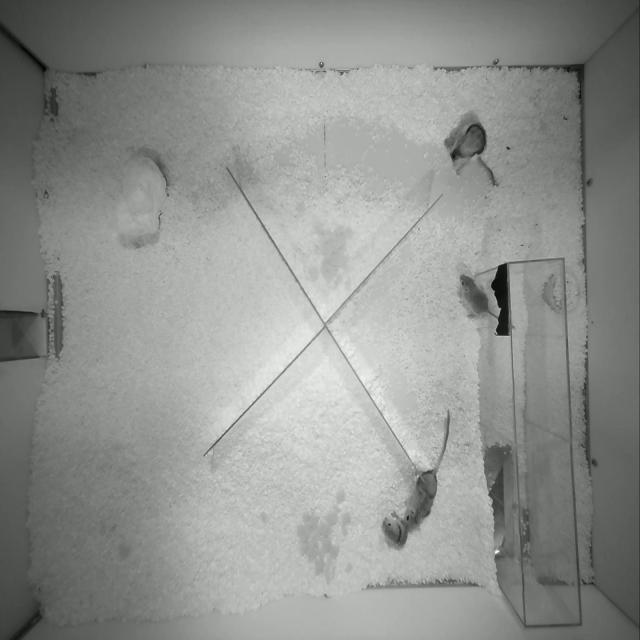adult_back: (405, 410, 450, 524)
adult_front: (451, 123, 486, 164), (478, 157, 497, 186)
pup_fluffy: (460, 275, 498, 319)
pup_h_stripe: (382, 511, 407, 545)
